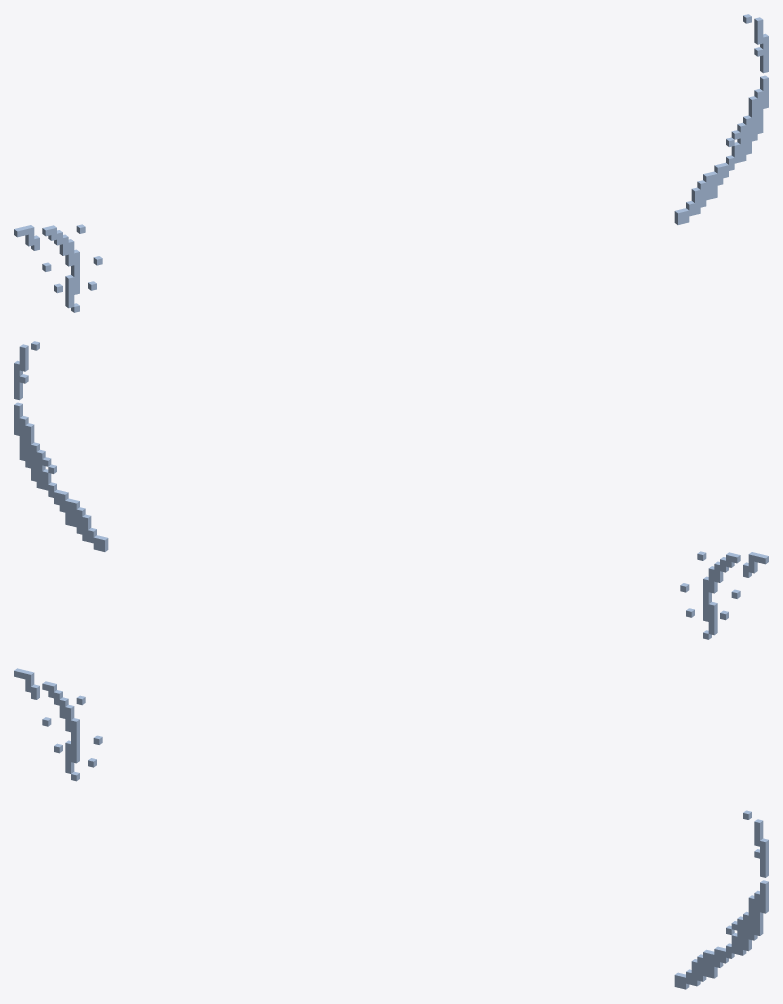
The model's file is Fight_710_3_07_fx.obj.
3 views of the same model, one above another, from view 1: azimuth 30°, elevation 25°; view 2: azimuth 150°, elevation 25°; view 3: azimuth 330°, elevation 25° (orthographic).
Size of the model in its own units: 13.2 by 3.2 by 0.1.
